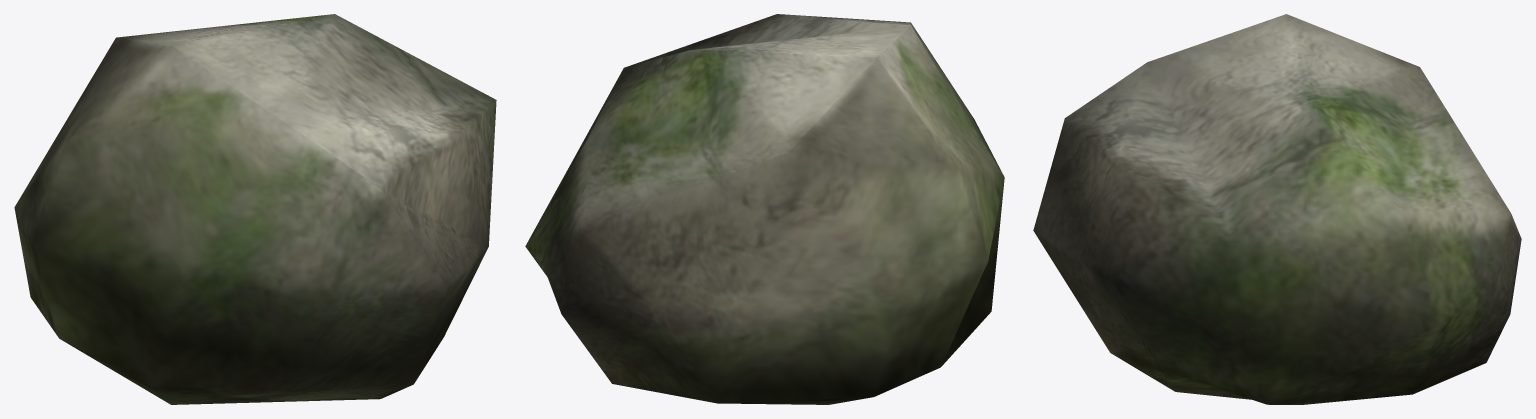
File: zz_dont_use_rock_Lt_2F.fbx
3 views of the same model, side by side, from view 1: azimuth 30°, elevation 25°; view 2: azimuth 150°, elevation 25°; view 3: azimuth 270°, elevation 25° (orthographic). The views are drawn at different scales.
Visible parts, largest first — view 1: rock_1; view 2: rock_1; view 3: rock_1.
Boxes of the visible parts, <box> form: rock_1: <box>14,14,496,404</box>; rock_1: <box>525,14,1004,404</box>; rock_1: <box>1033,14,1521,404</box>.
Bounding box in the file's own units: 446 × 359 × 491.
1 material, 1 textured.
